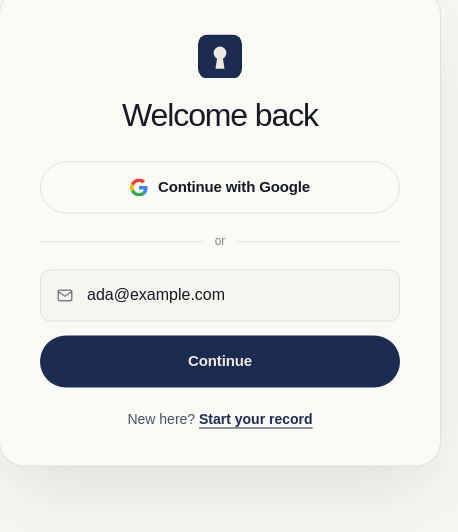
Test case: the sign-in form › shows "Can't reach afterbox" when the request fails while online, and Continue stays usable
This screenshot has width=458, height=532.
Click the button "Continue" at (220, 362), box [40,336,400,388]
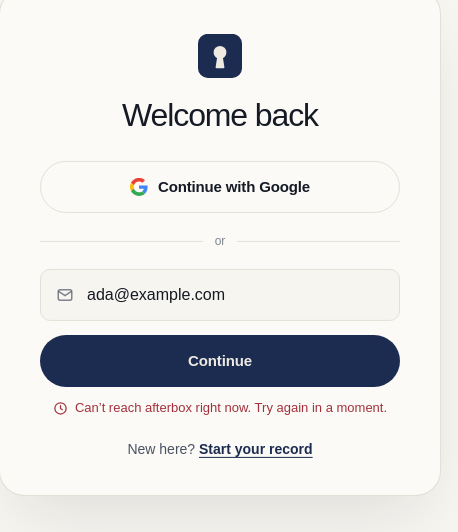
Expected: the text "Can’t reach afterbox right now. Try again in a moment." is shown, [75,399,387,417]
